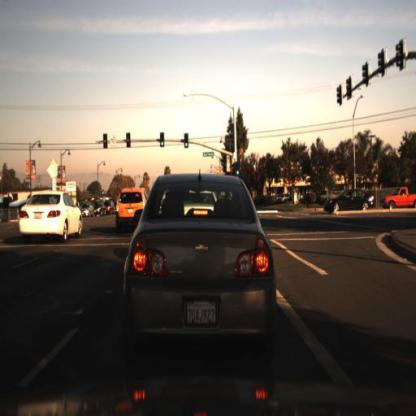car: (109, 166, 290, 364), (16, 179, 85, 258), (112, 178, 150, 233), (321, 183, 368, 223), (115, 187, 152, 229), (10, 187, 46, 226), (381, 183, 416, 214), (383, 186, 416, 212)
trafficLight: (124, 133, 132, 158), (103, 130, 111, 151), (160, 130, 168, 149)
trafficLight-Green: (179, 131, 193, 163), (234, 161, 242, 186), (157, 133, 165, 157), (235, 161, 243, 179)
trafficLight-Red: (183, 133, 190, 153)
trafficLight-RedLeft: (100, 131, 110, 158)
